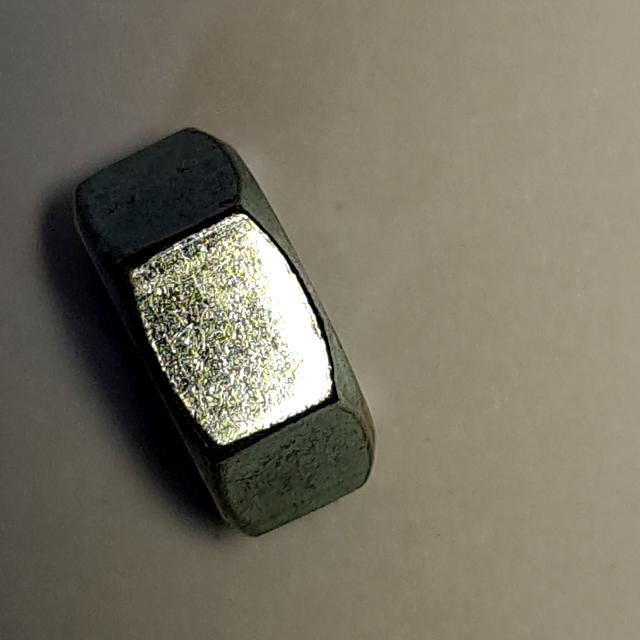Side_Excellent: (49, 115, 399, 556)
